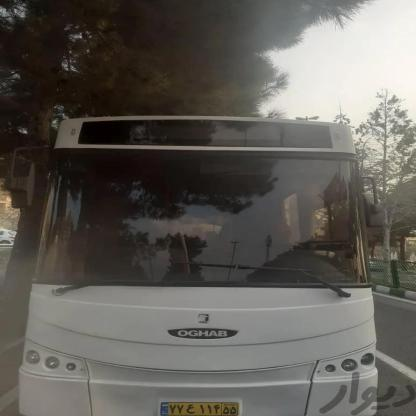Bus: (21, 109, 386, 416)
